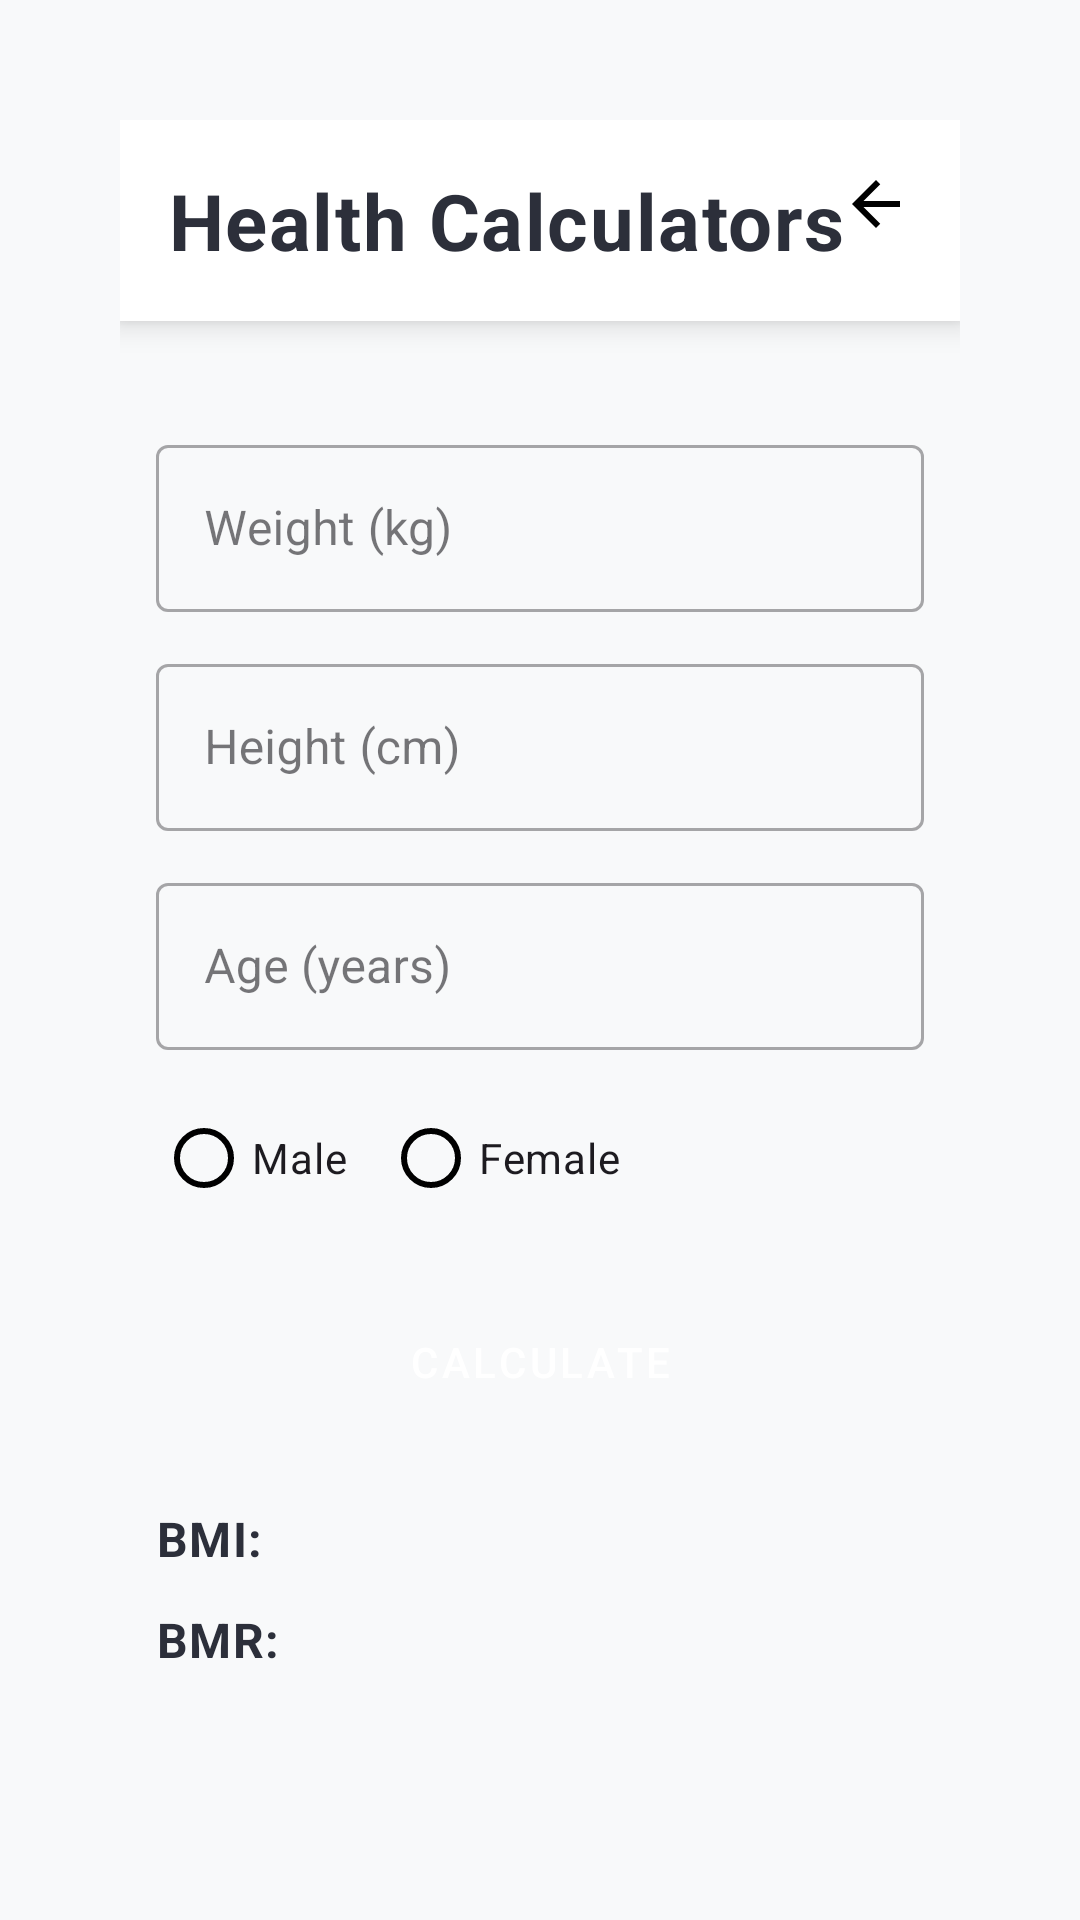

Icons on this 1080×1920 Android screen, each with the point to tap as (x=x, y=y):
Go back: (x=876, y=204)
